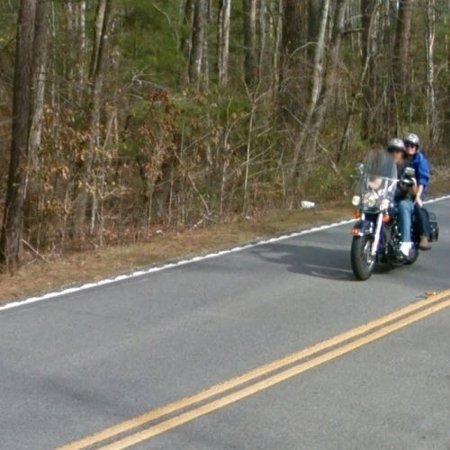自行車: (343, 129, 440, 279)
